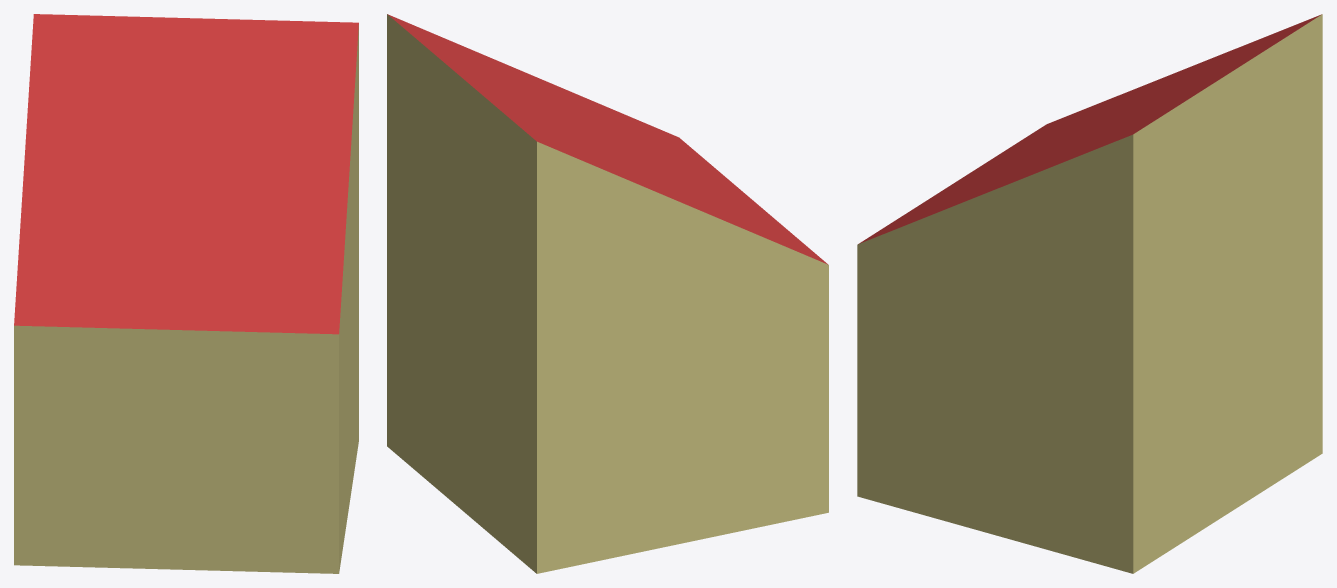
3 views of the same model, side by side, from view 1: azimuth 30°, elevation 25°; view 2: azimuth 150°, elevation 25°; view 3: azimuth 270°, elevation 25° (orthographic). The views are drawn at different scales.
Size of the model in its own units: 8.58 by 8.53 by 8.88.
